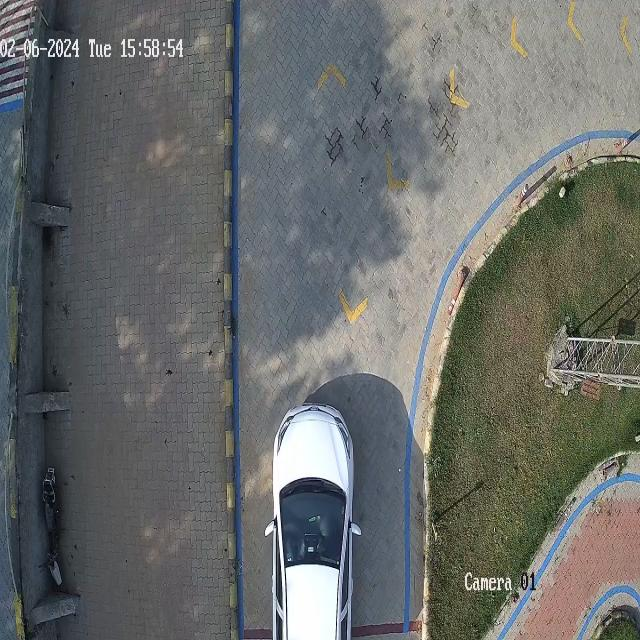car: (285, 564, 338, 640)
